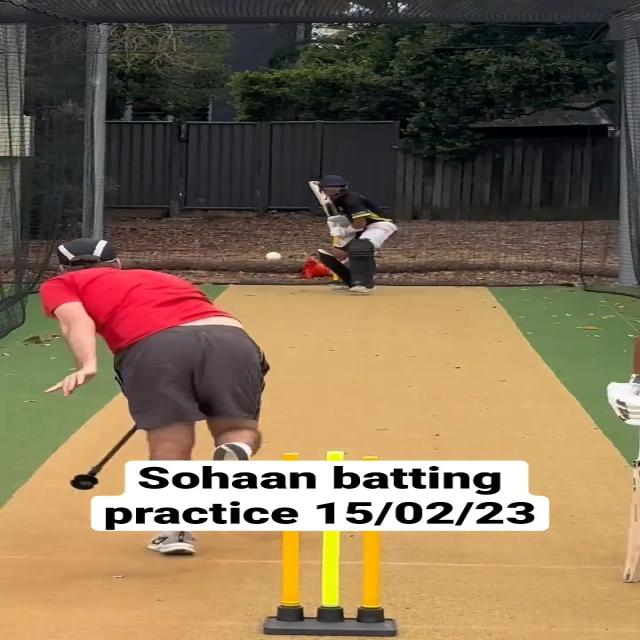ball: (265, 251, 283, 263)
stump: (267, 532, 399, 635)
